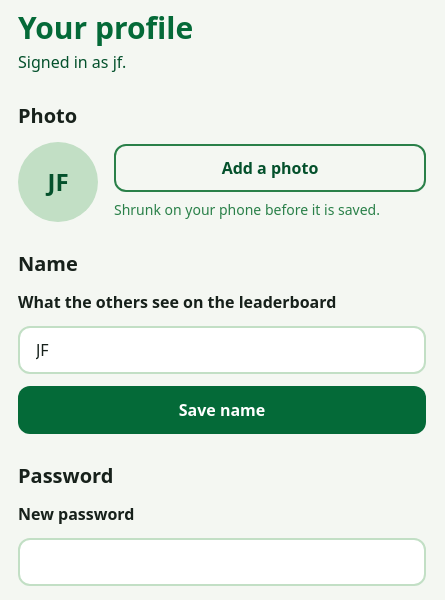
Scenario: ProfileScreen › refuses a blank name instead of wiping it on the leaderboard
The width and height of the screenshot is (445, 600).
Clear the field labelled "What the others see on the leaderboard" at {"x": 222, "y": 350}, box [18,326,426,374]
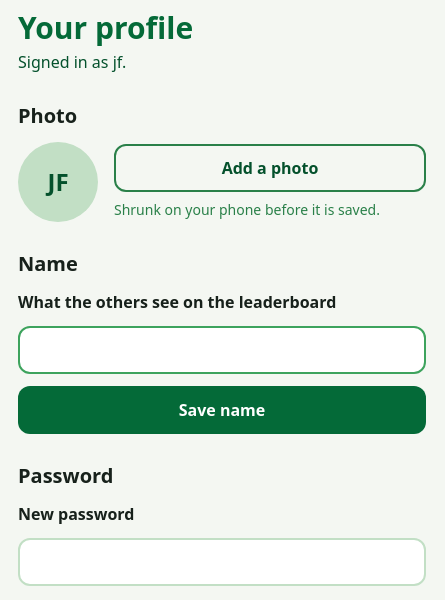
Click the button "Save name" at {"x": 222, "y": 410}, box [18,386,426,434]
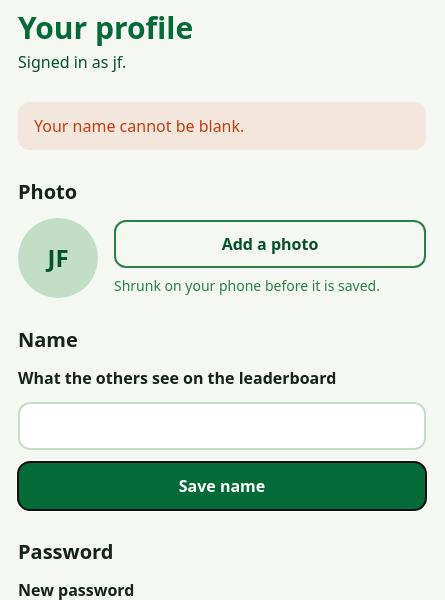
Expected: the message shows "cannot be blank", [34,115,244,137]
